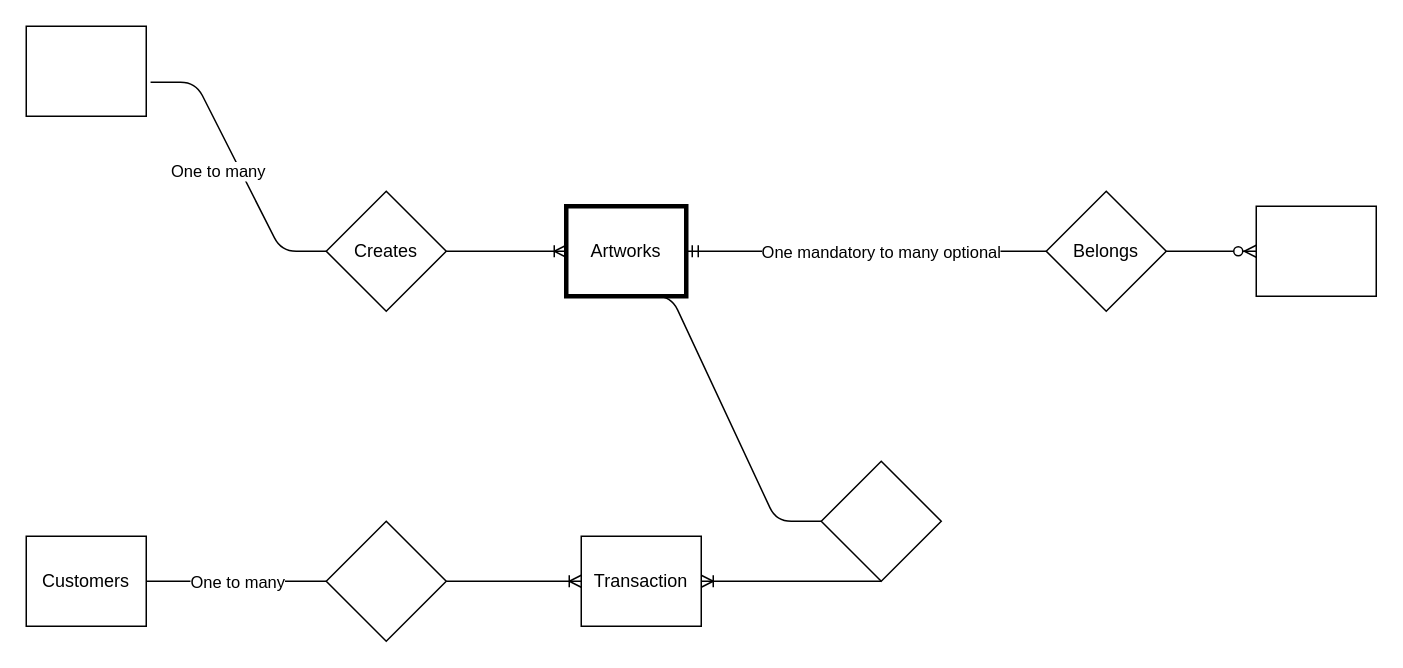
This 1403x668 diagram has some shape labels left out. The centre of each missing label's shape, as x and y in pixels:
"Aritsts" goes at (85,70).
"Executes" goes at (385,580).
"Group of artworks" goes at (1315,250).
